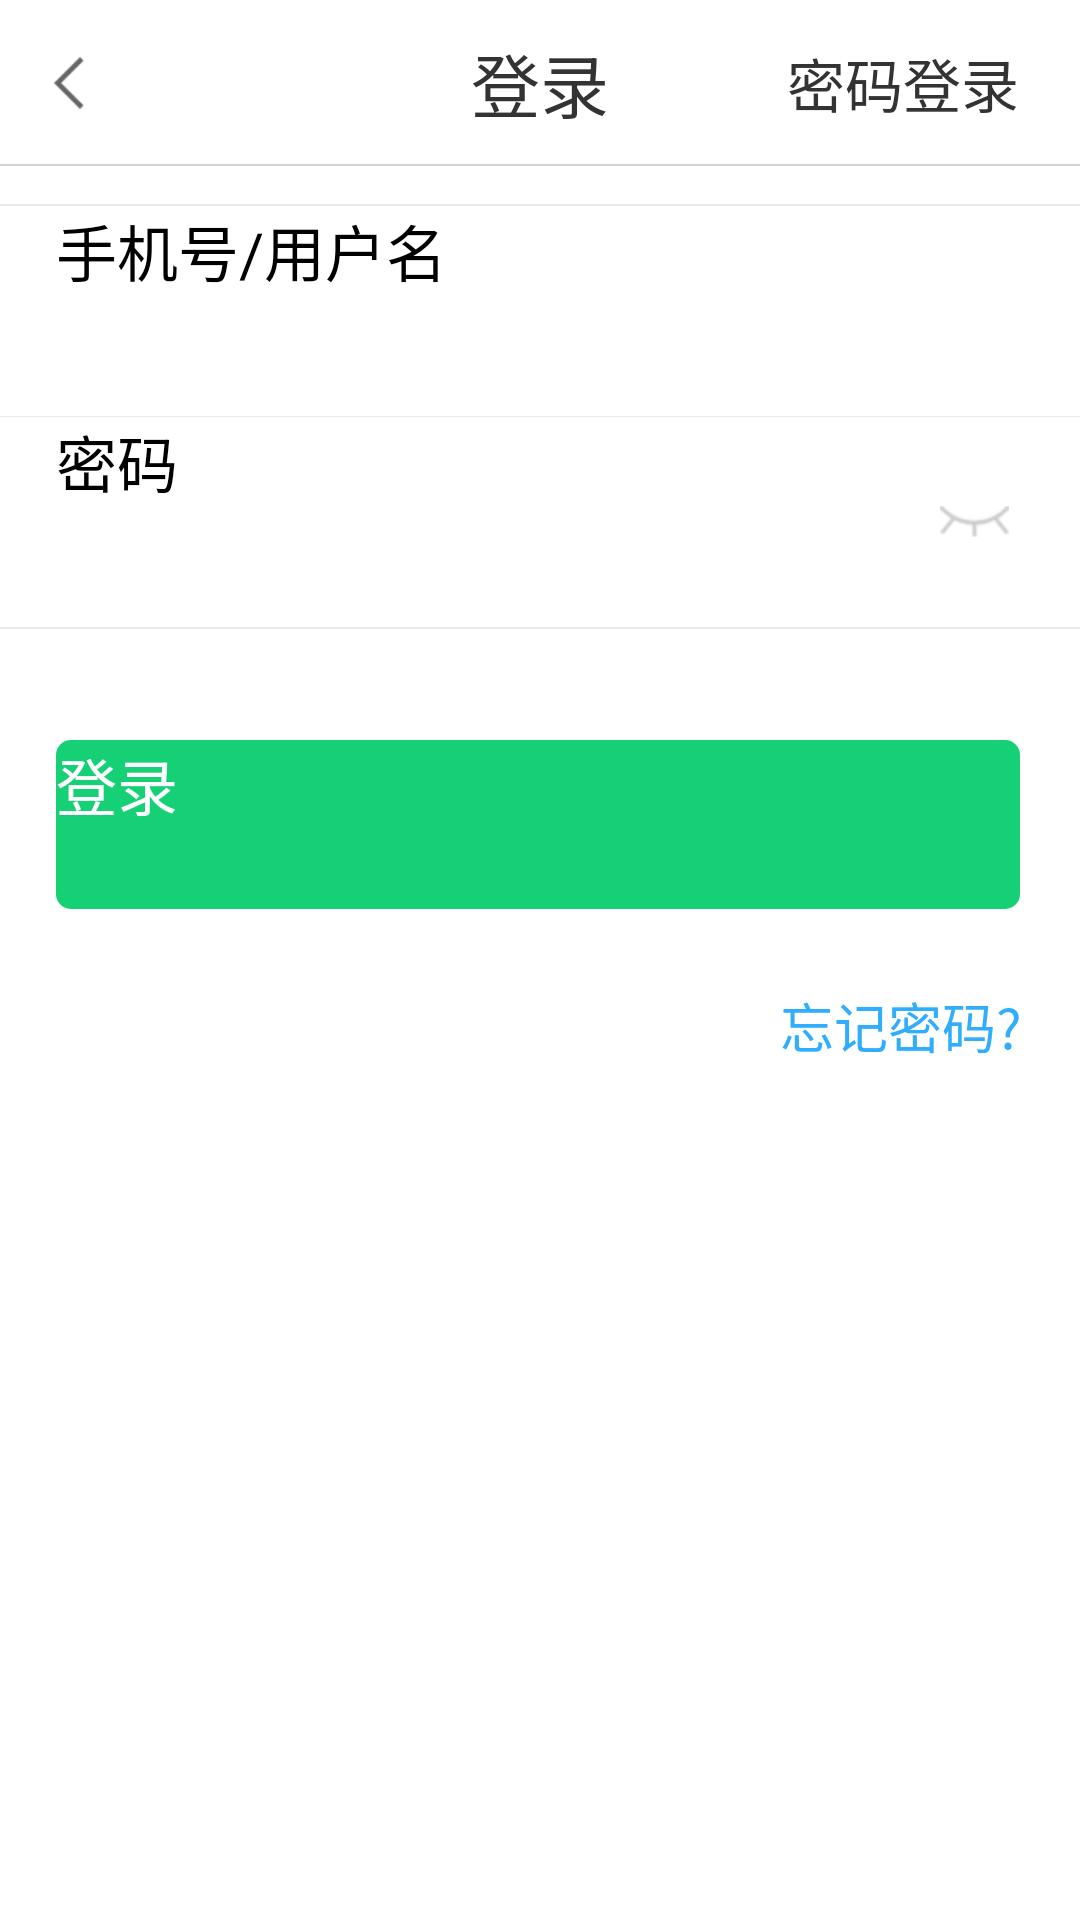

Where to tap for icons on this 1080px x 1920px app screen, as point (x, y):
back: point (69, 83)
show: point (974, 521)
